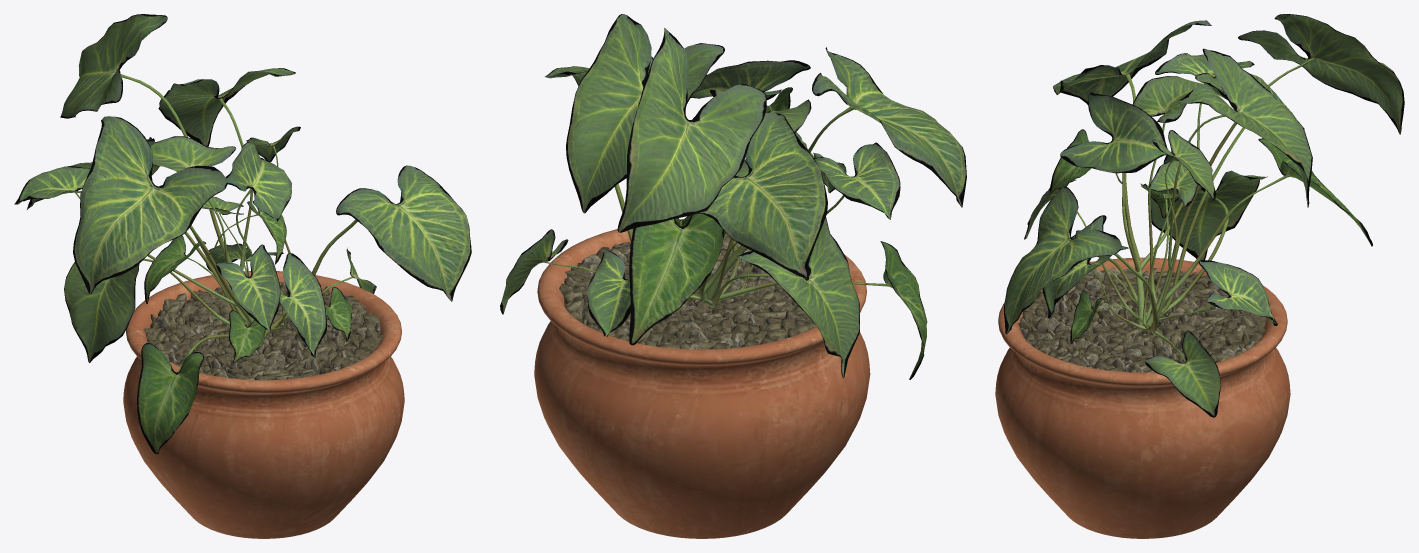
File: potted_plant_02.glb
The picture shows the model from 3 angles, left to right: view 1: azimuth 30°, elevation 25°; view 2: azimuth 150°, elevation 25°; view 3: azimuth 270°, elevation 25°; orthographic projection. The views are drawn at different scales.
Visible parts, largest first — view 1: potted_plant_02_leaves, potted_plant_02_pot; view 2: potted_plant_02_leaves, potted_plant_02_pot; view 3: potted_plant_02_pot, potted_plant_02_leaves.
Part boxes in pixels (box(x1,y1,x2,y2)): potted_plant_02_leaves: box(14, 14, 471, 453); potted_plant_02_pot: box(123, 271, 404, 538); potted_plant_02_leaves: box(500, 14, 966, 379); potted_plant_02_pot: box(534, 219, 870, 538); potted_plant_02_pot: box(995, 257, 1290, 538); potted_plant_02_leaves: box(1004, 14, 1404, 417).
Size of the model in its own units: 0.7009 by 0.8412 by 0.6574.
2 materials, 2 textured.
